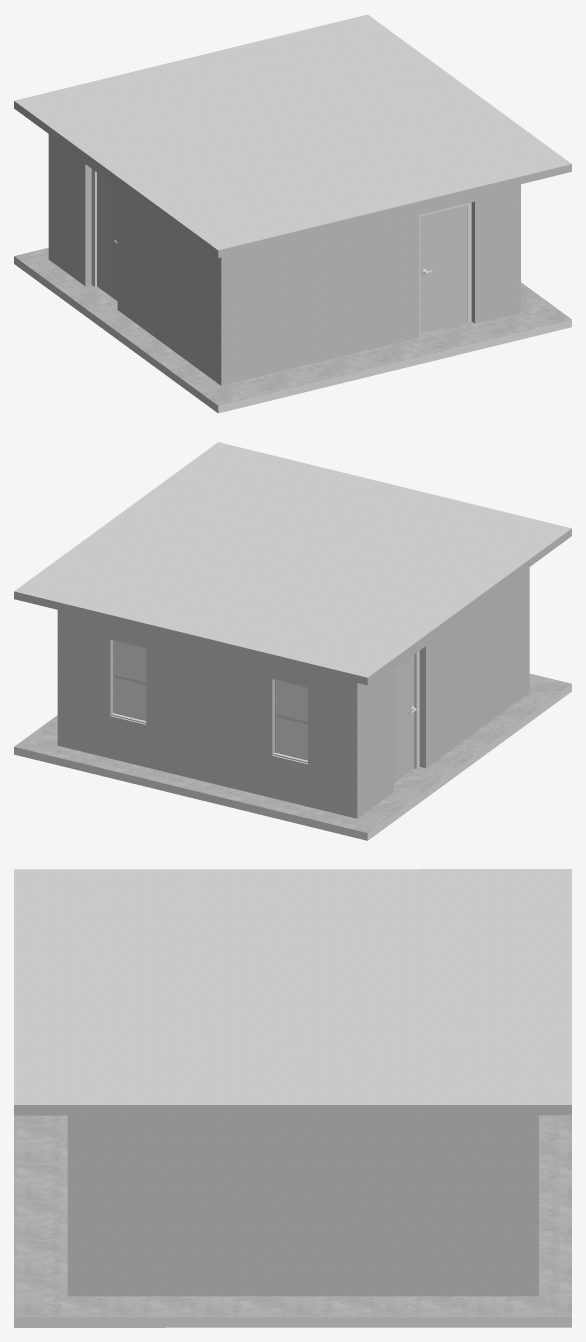
The model's file is FloorPlan225_physics.fbx.
3 renders of one model, top to bottom at view 1: azimuth 30°, elevation 25°; view 2: azimuth 150°, elevation 25°; view 3: azimuth 270°, elevation 25°, orthographic. The views are drawn at different scales.
Visible parts, largest first — view 1: FP225:polySurface1, FP225:polySurface15, FP225:polySurface14, FP225:Door.014, FP225:Door.013, FP225:DoorFrame.011, FP225:DoorFrame.010; view 2: FP225:polySurface1, FP225:polySurface15, FP225:polySurface14, FP225:Door.013, FP225:polySurface9, FP225:polySurface4, FP225:DoorFrame.010; view 3: FP225:polySurface1, FP225:polySurface15, FP225:polySurface14.
Part boxes in pixels (box(x1,y1,x2,y2)): FP225:polySurface1: box(14, 14, 571, 257); FP225:polySurface15: box(48, 134, 520, 385); FP225:polySurface14: box(14, 247, 571, 413); FP225:Door.014: box(420, 204, 466, 333); FP225:Door.013: box(97, 173, 117, 301); FP225:DoorFrame.011: box(419, 202, 471, 333); FP225:DoorFrame.010: box(91, 169, 96, 286); FP225:polySurface1: box(14, 442, 571, 685); FP225:polySurface15: box(57, 567, 529, 818); FP225:polySurface14: box(14, 673, 571, 840); FP225:Door.013: box(394, 655, 414, 782); FP225:polySurface9: box(115, 640, 146, 718); FP225:polySurface4: box(276, 680, 307, 758); FP225:DoorFrame.010: box(414, 651, 419, 768); FP225:polySurface1: box(14, 869, 571, 1115); FP225:polySurface15: box(67, 1115, 538, 1296); FP225:polySurface14: box(14, 1115, 571, 1327).
Size of the model in its own units: 633 by 279 by 633.
